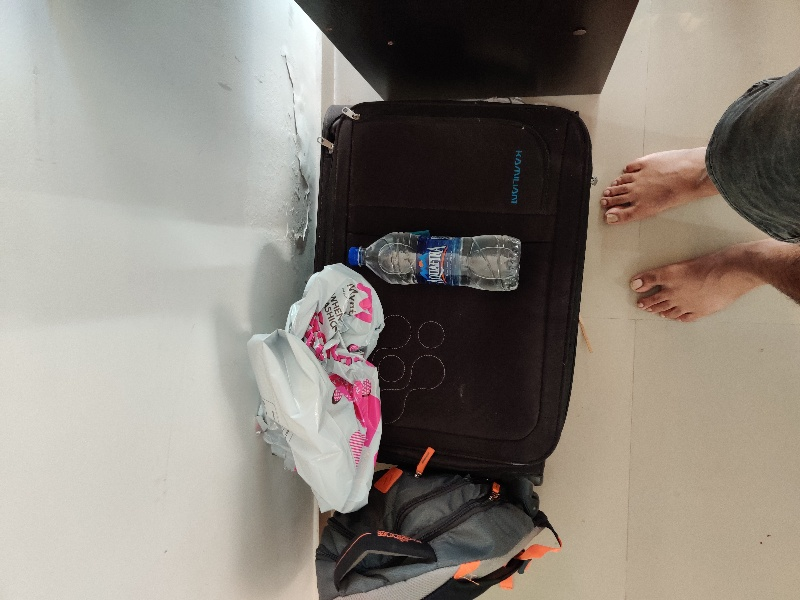bottle: (341, 220, 524, 294)
